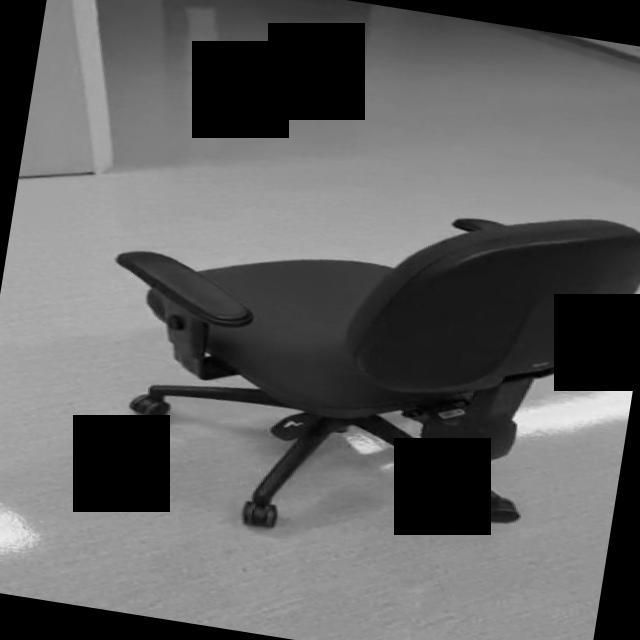chair: (80, 145, 640, 580)
